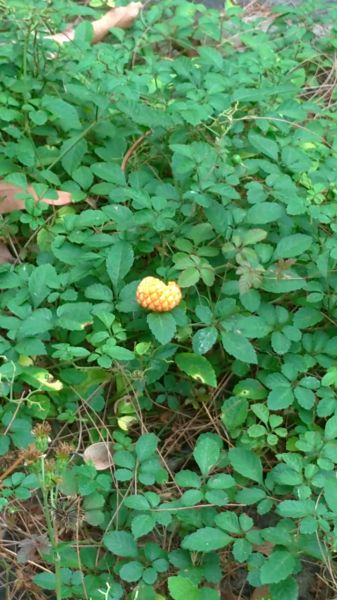eggs: (130, 269, 184, 316)
